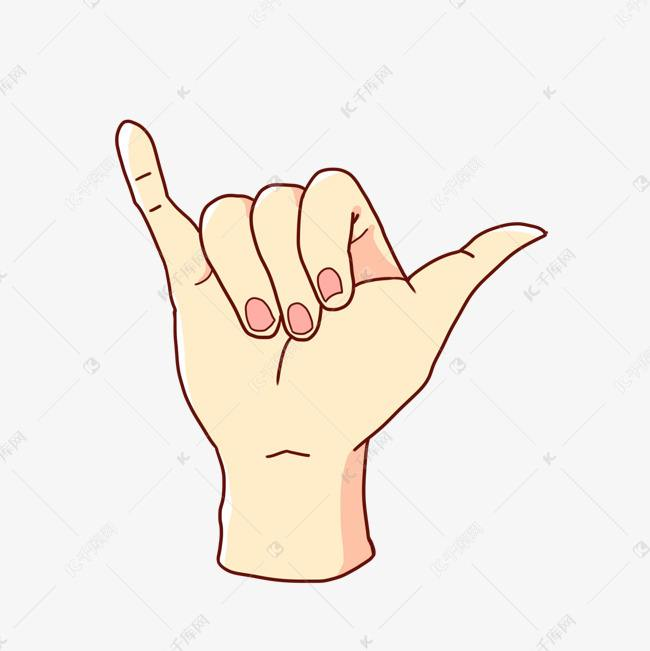clockwise: (111, 117, 550, 465)
